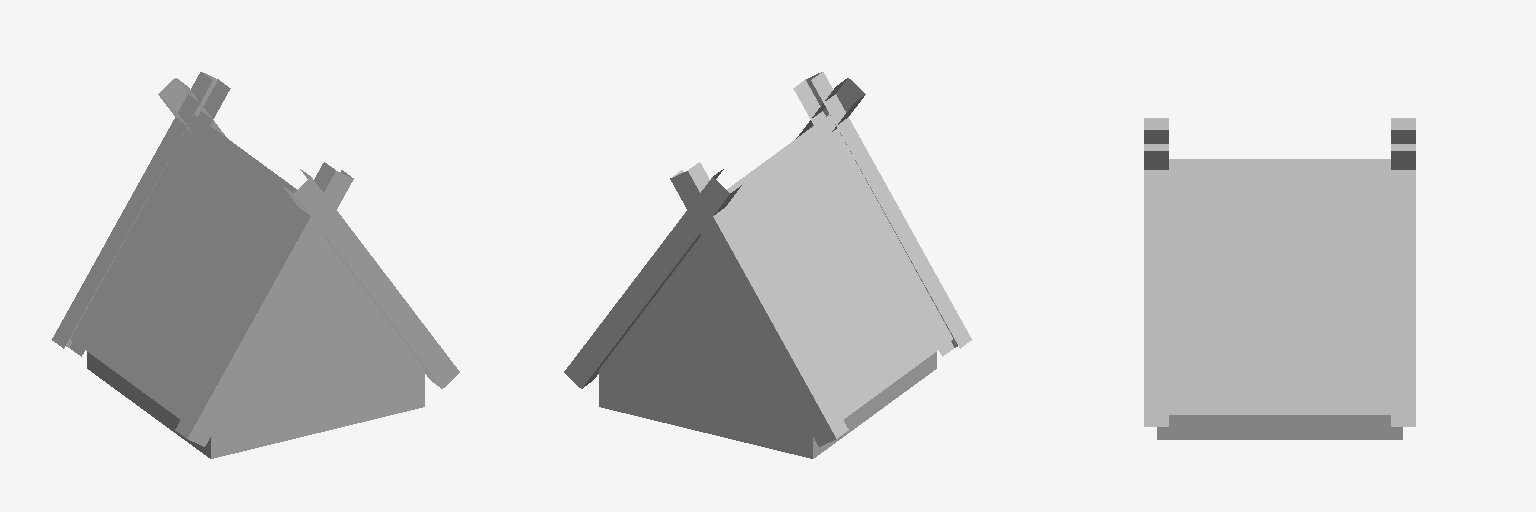
Rendered from Hitbox.obj.
3 views of the same model, side by side, from view 1: azimuth 30°, elevation 25°; view 2: azimuth 150°, elevation 25°; view 3: azimuth 270°, elevation 25° (orthographic).
Size of the model in its own units: 0.6386 by 0.59 by 0.5492.